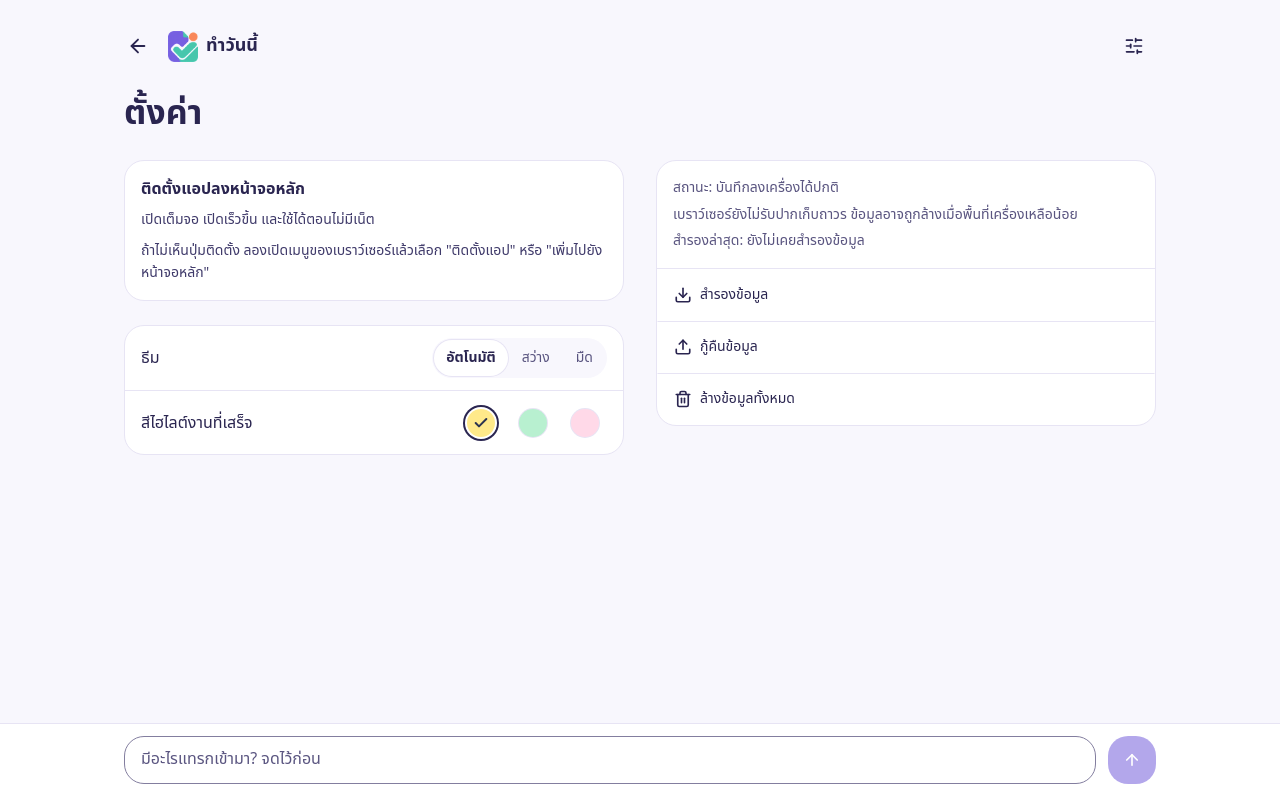
Scenario: สำรองข้อมูล (เฟส 6) › ไม่มีข้อมูล -> ไม่สร้างไฟล์เปล่า บอกผู้ใช้
Click the button "สำรองข้อมูล". click: (734, 294)
box: [657,269,1155,321]
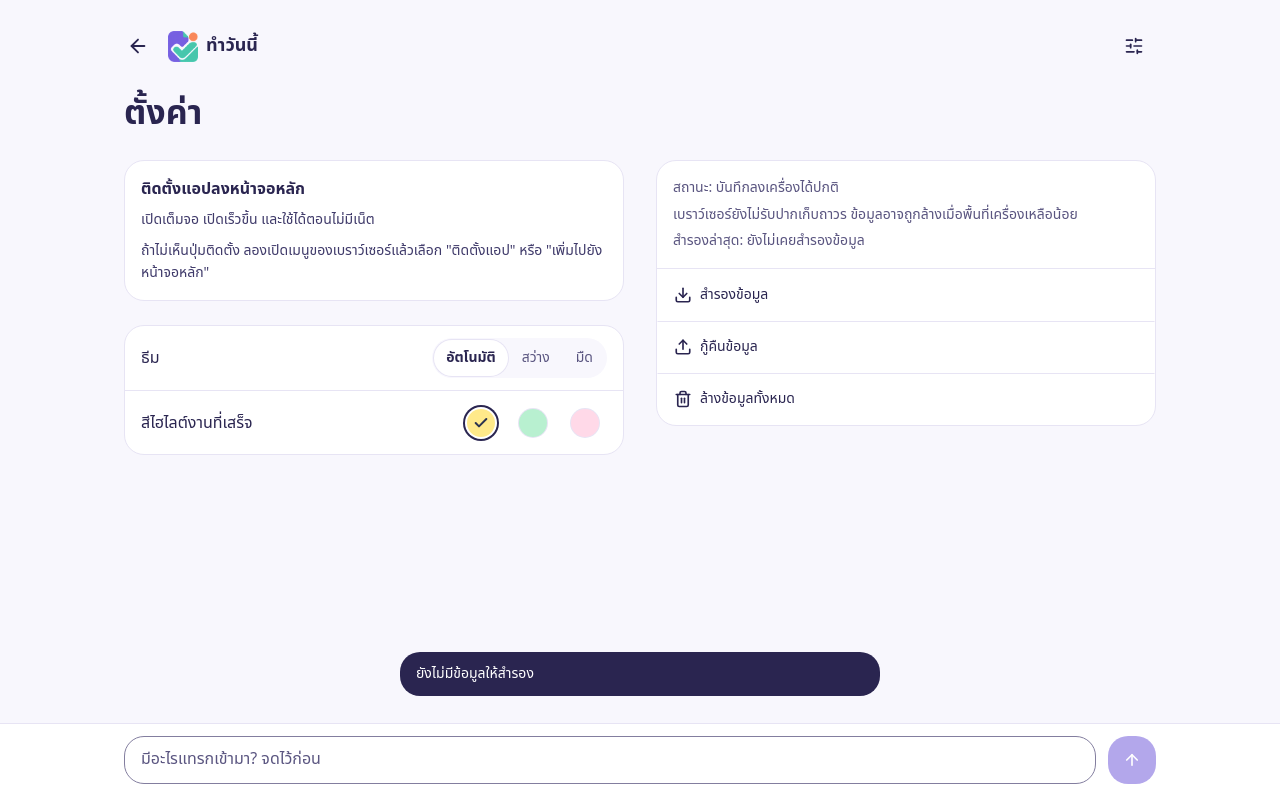
Result: the text "ยังไม่มีข้อมูลให้สำรอง" is shown at [416,663,534,684]
